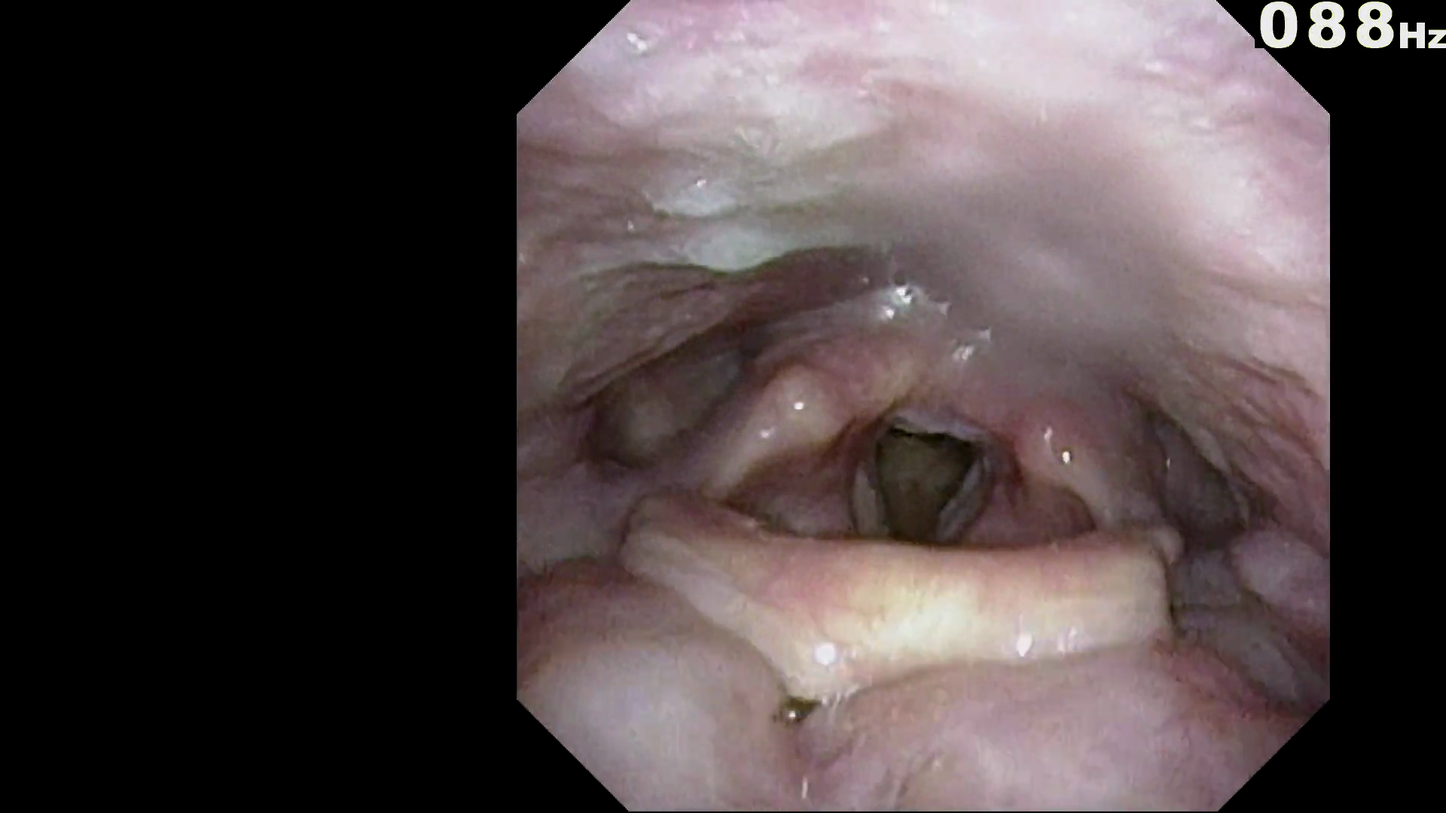epiglottis: (623, 527, 1181, 711)
trachea: (864, 424, 987, 564)
